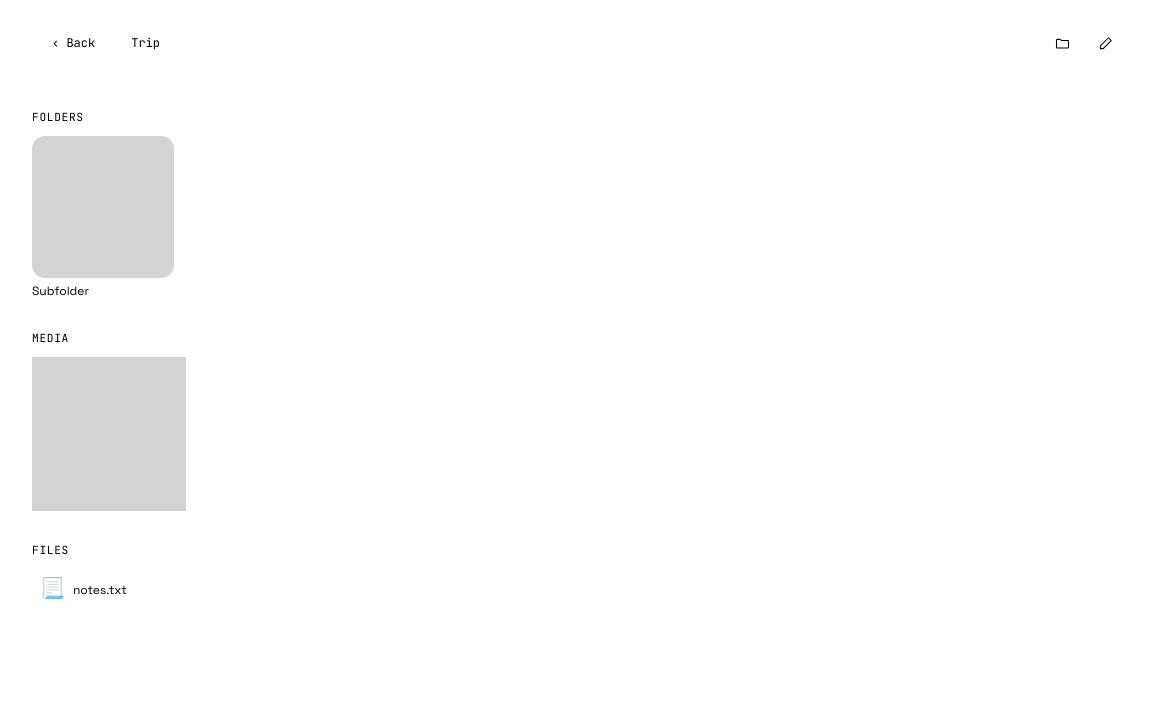
Test: FullPageView › single-clicking a non-media file selects it and shows its details in the side panel
The image size is (1152, 720).
What coordinates should you click on to do the following:
click the button "📃 notes.txt"
I would click on:
 (83, 588)
Its box is [40,575,127,601].
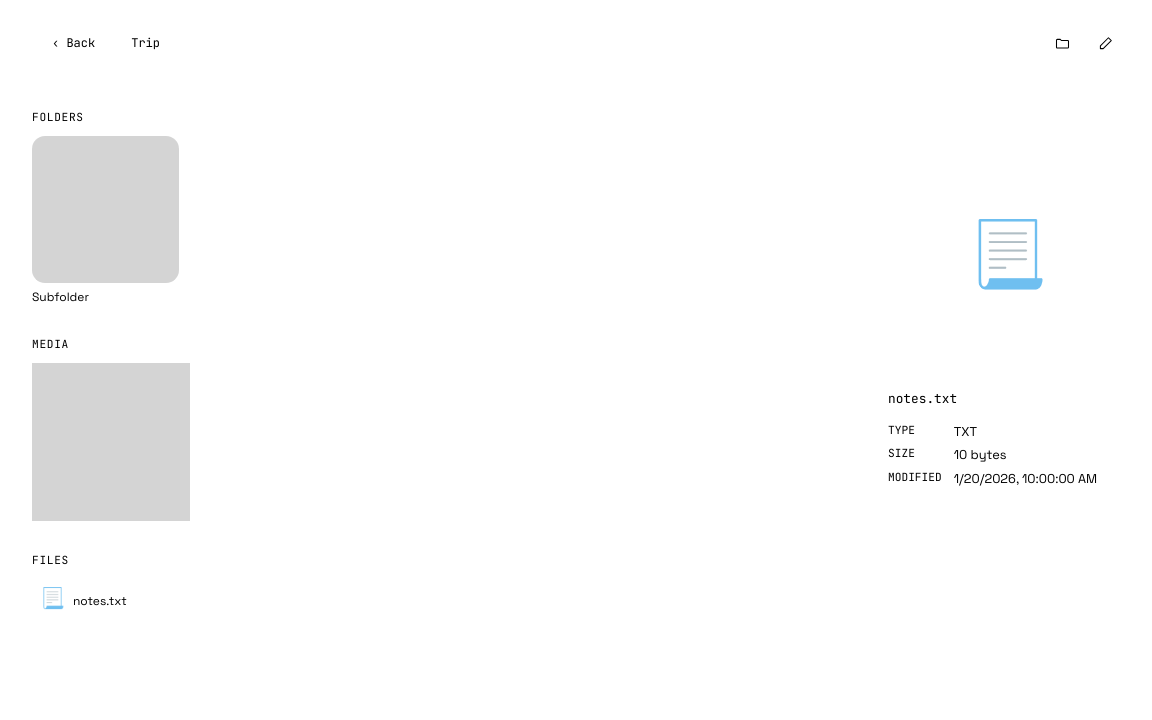
Check: the 1st text "notes.txt" is shown, box [888,390,957,407]
Check: the text "TXT" is shown, box [954,423,977,440]
